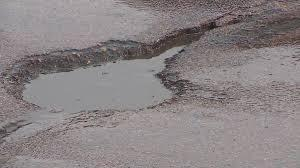crack: (0, 21, 227, 107)
